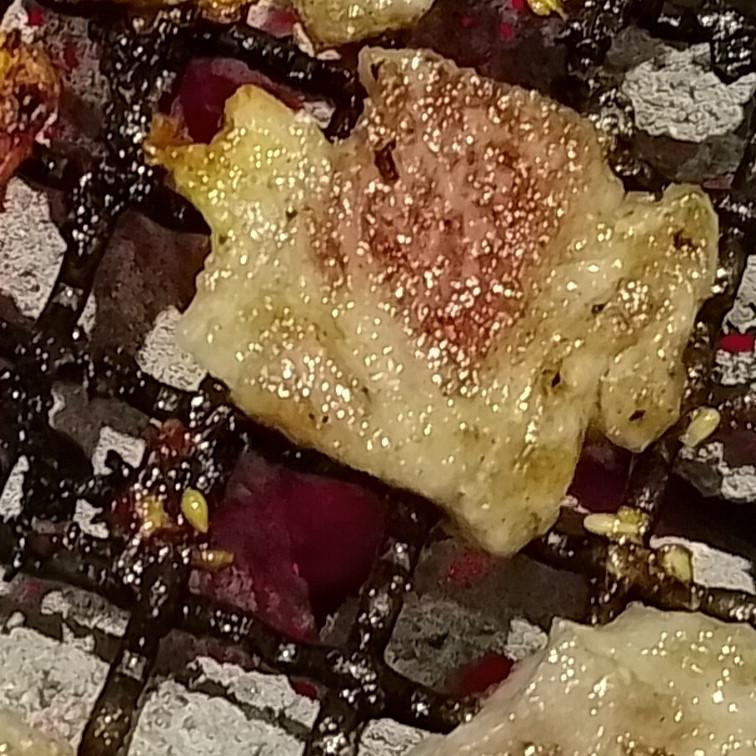Well-Cooked: (146, 47, 723, 559)
